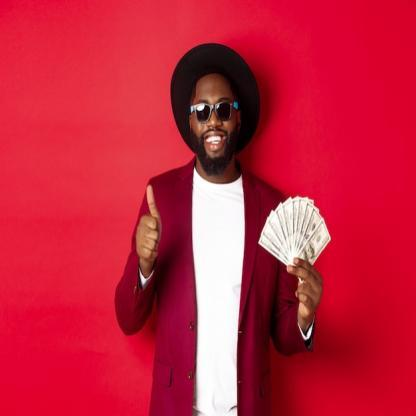thumb_up: (132, 181, 170, 266)
